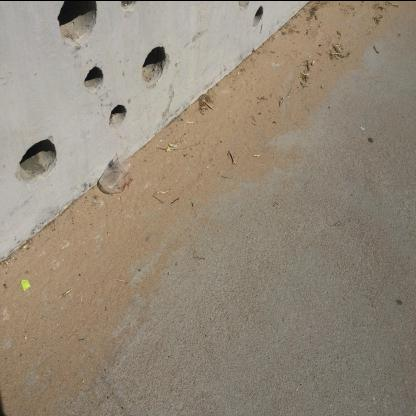plastik: (98, 151, 134, 193)
